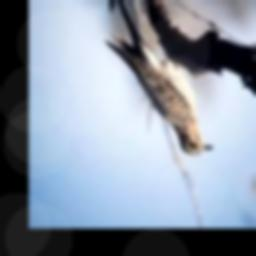Cuckoo: (104, 0, 212, 154)
